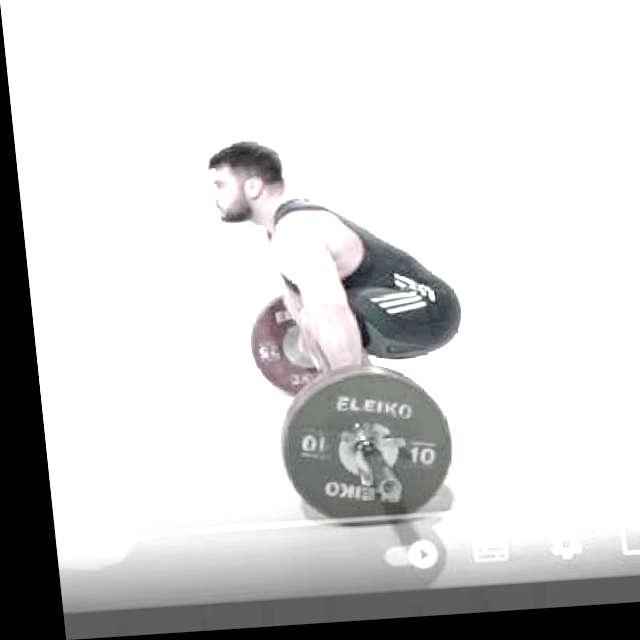barbell: (260, 367, 455, 537)
